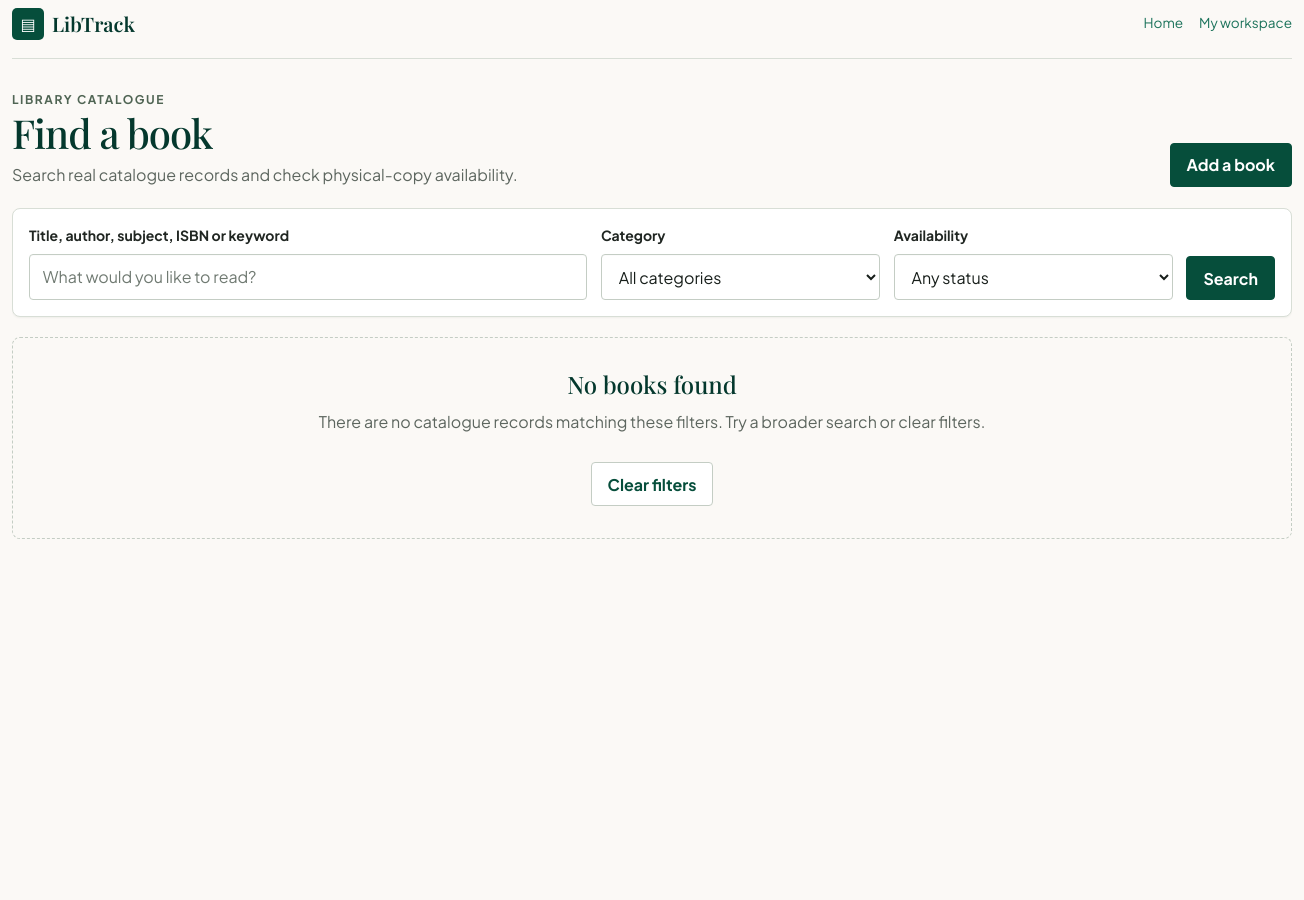
BookListComponent › submits the current partial ISBN and replaces prior results with the latest response
Type "9780306406" into the field labelled "Title, author, subject, ISBN or keyword".
click(308, 277); type("9780306406")  # box [29,254,587,300]
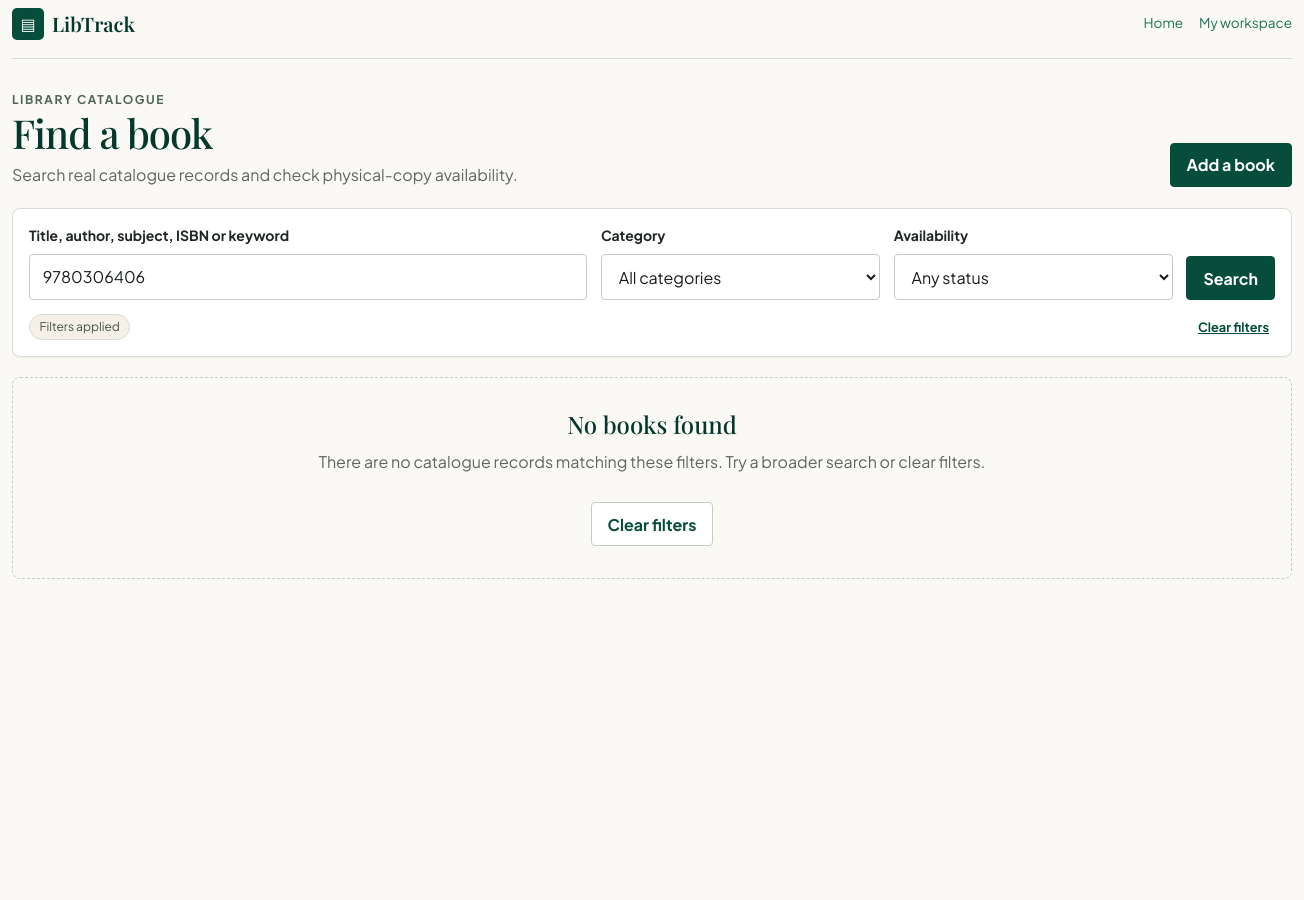
Click the submit button.
click(1231, 278)  # box [1186,256,1275,300]
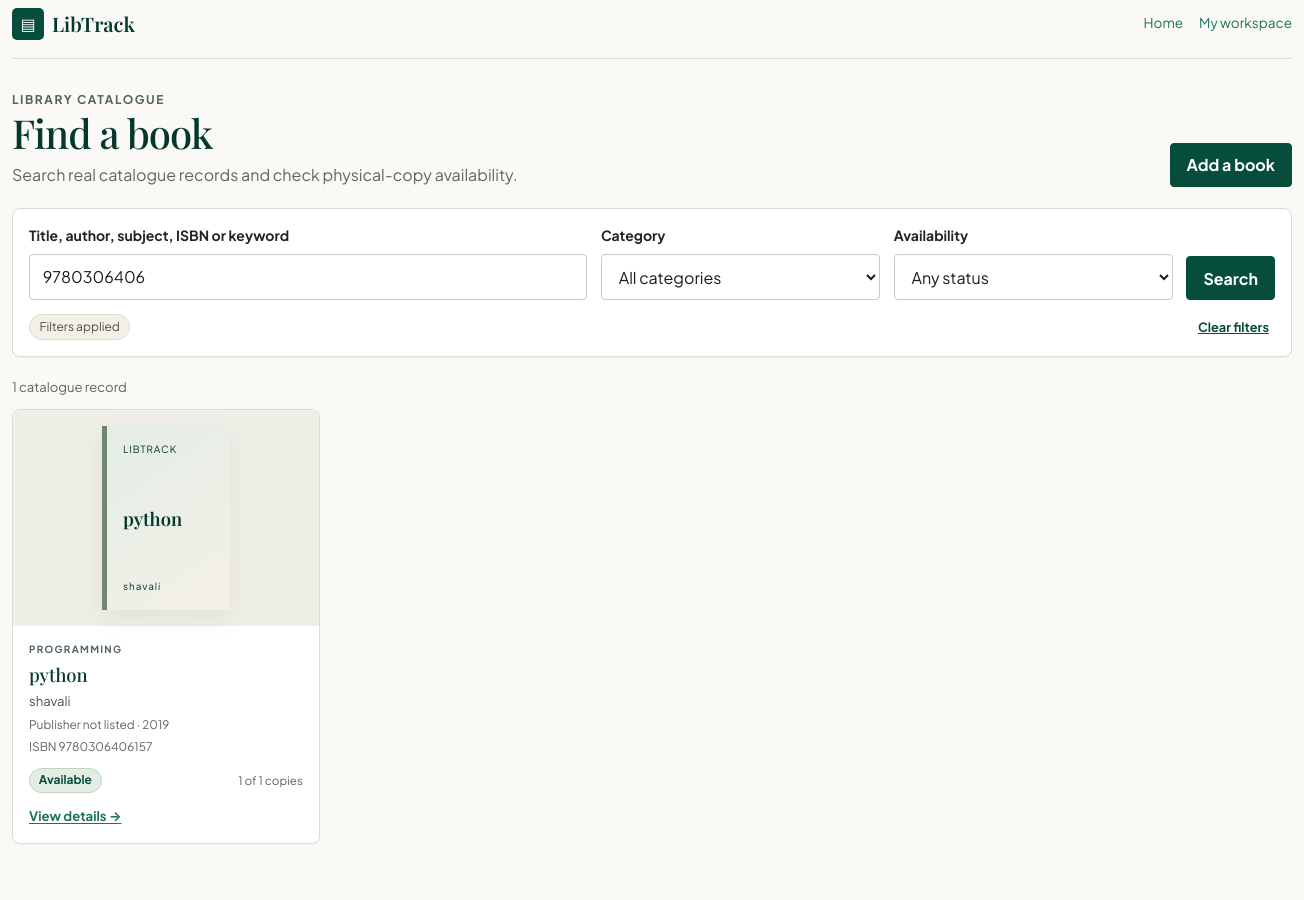
Expected: the text "python" is shown, [123,506,182,531]
Replace the text in the field labelled "Title, author, subject, ISBN or keyword" with "0000000000" at point(308, 277), box [29,254,587,300]
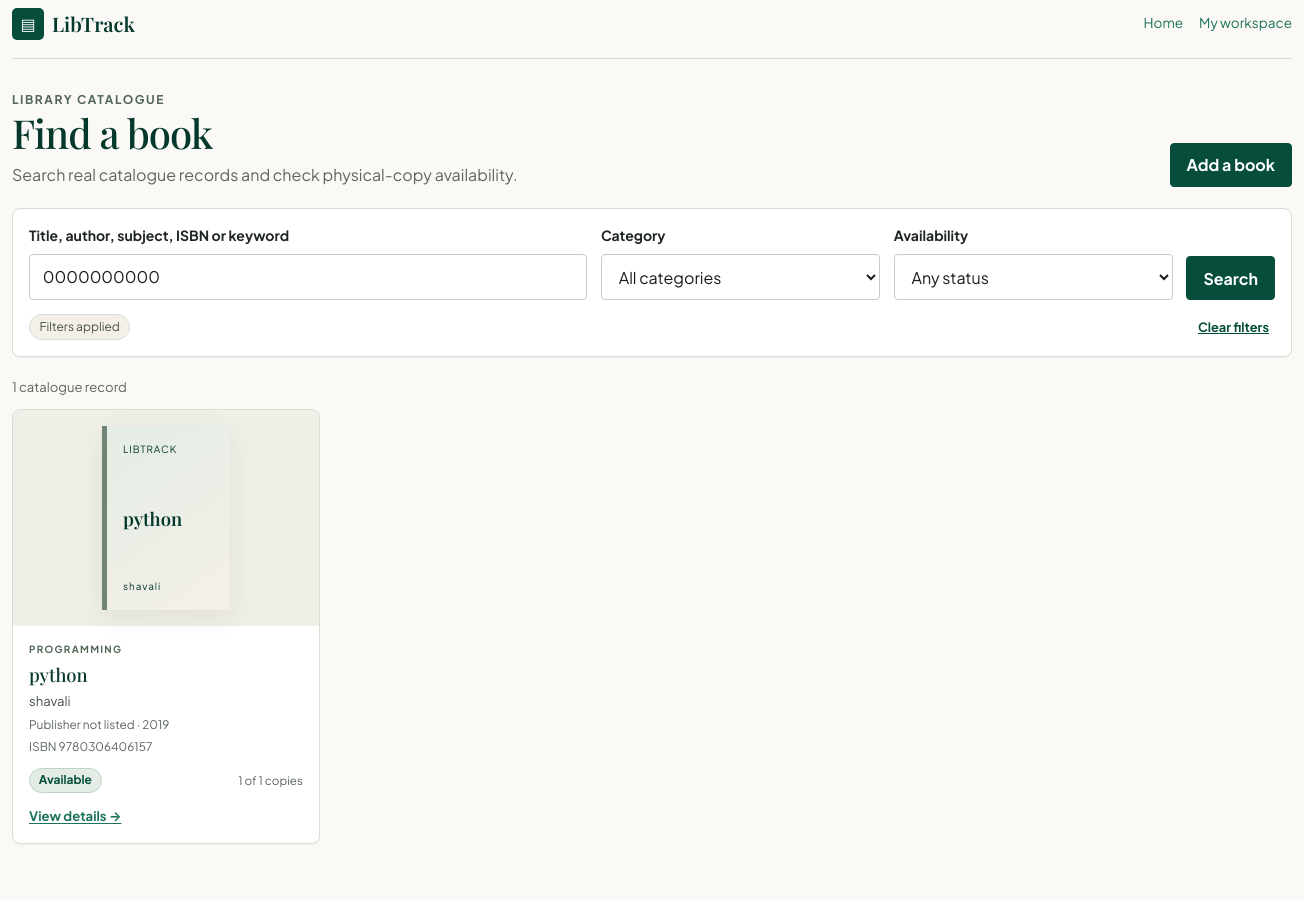
Click the submit button.
click(1231, 278)  # box [1186,256,1275,300]
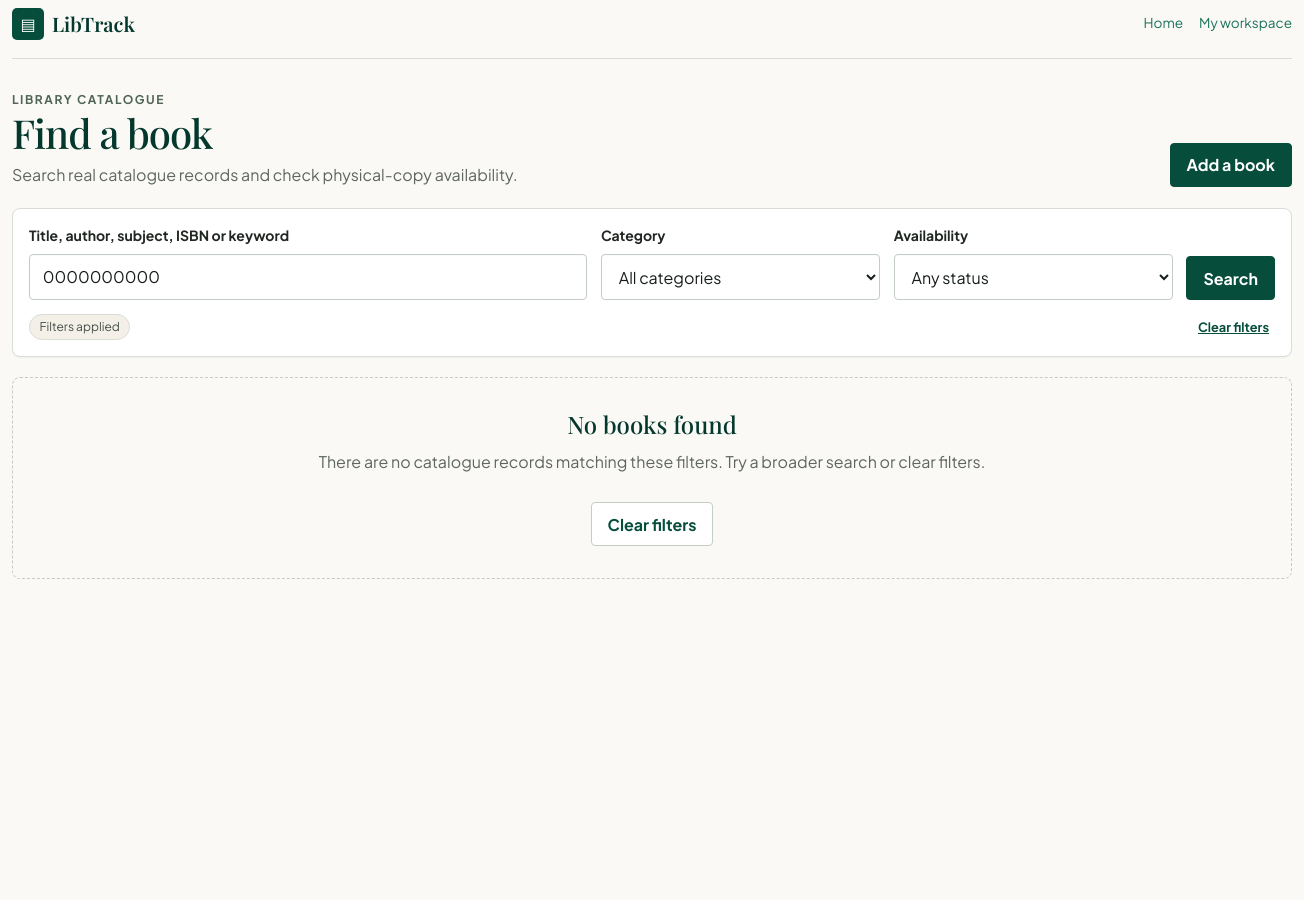
Expected: the text "No books found" is shown, [567,410,737,438]
Expected: the text "python" is gone
